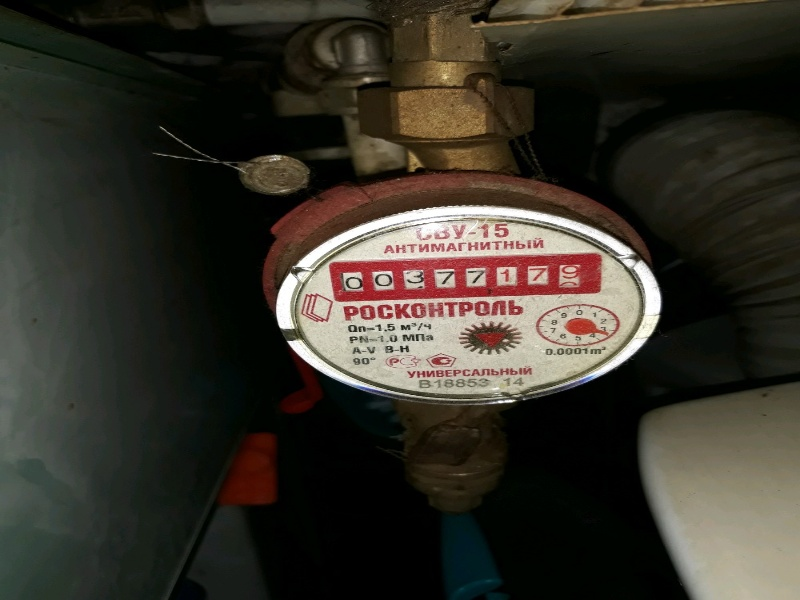meter: (327, 260, 602, 298)
